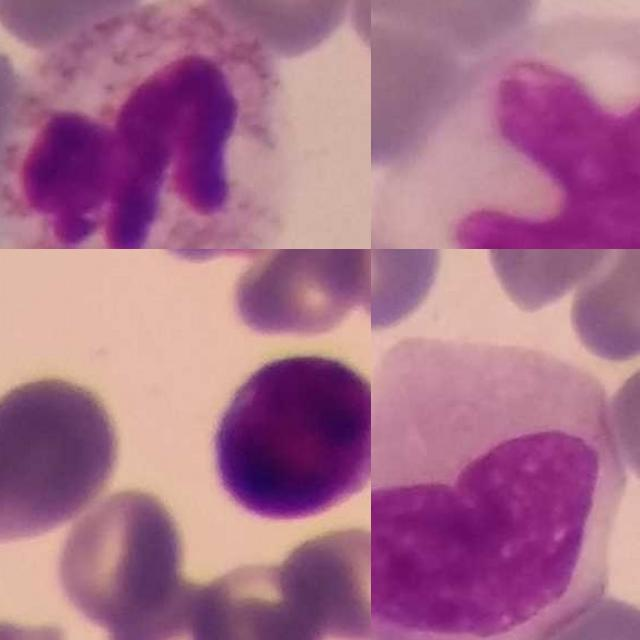Lymphocyte: (210, 353, 371, 520)
Monocyte: (371, 338, 632, 640), (398, 23, 640, 249)
Neutrophil: (0, 0, 293, 249)
